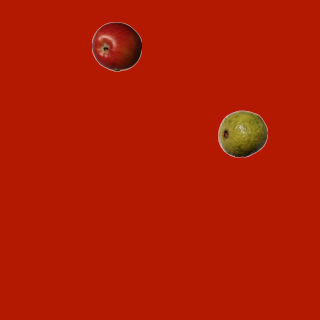Apple Braeburn: (91, 21, 141, 71)
Guava: (217, 108, 267, 158)
